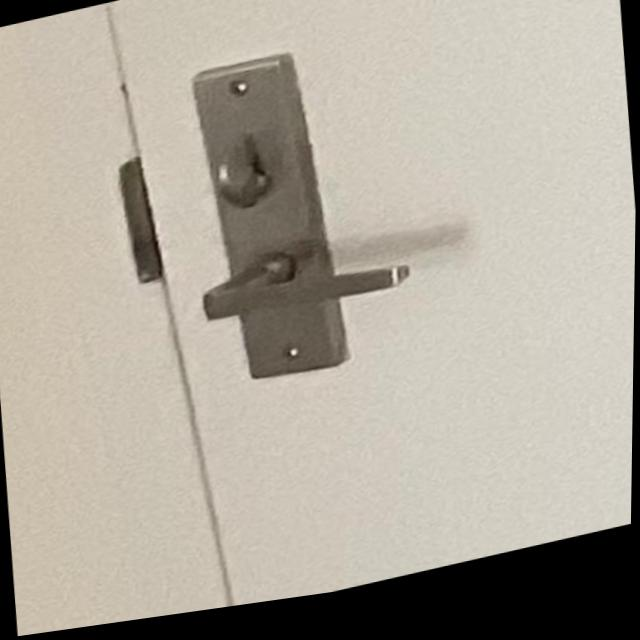door_handle: (177, 215, 440, 363)
